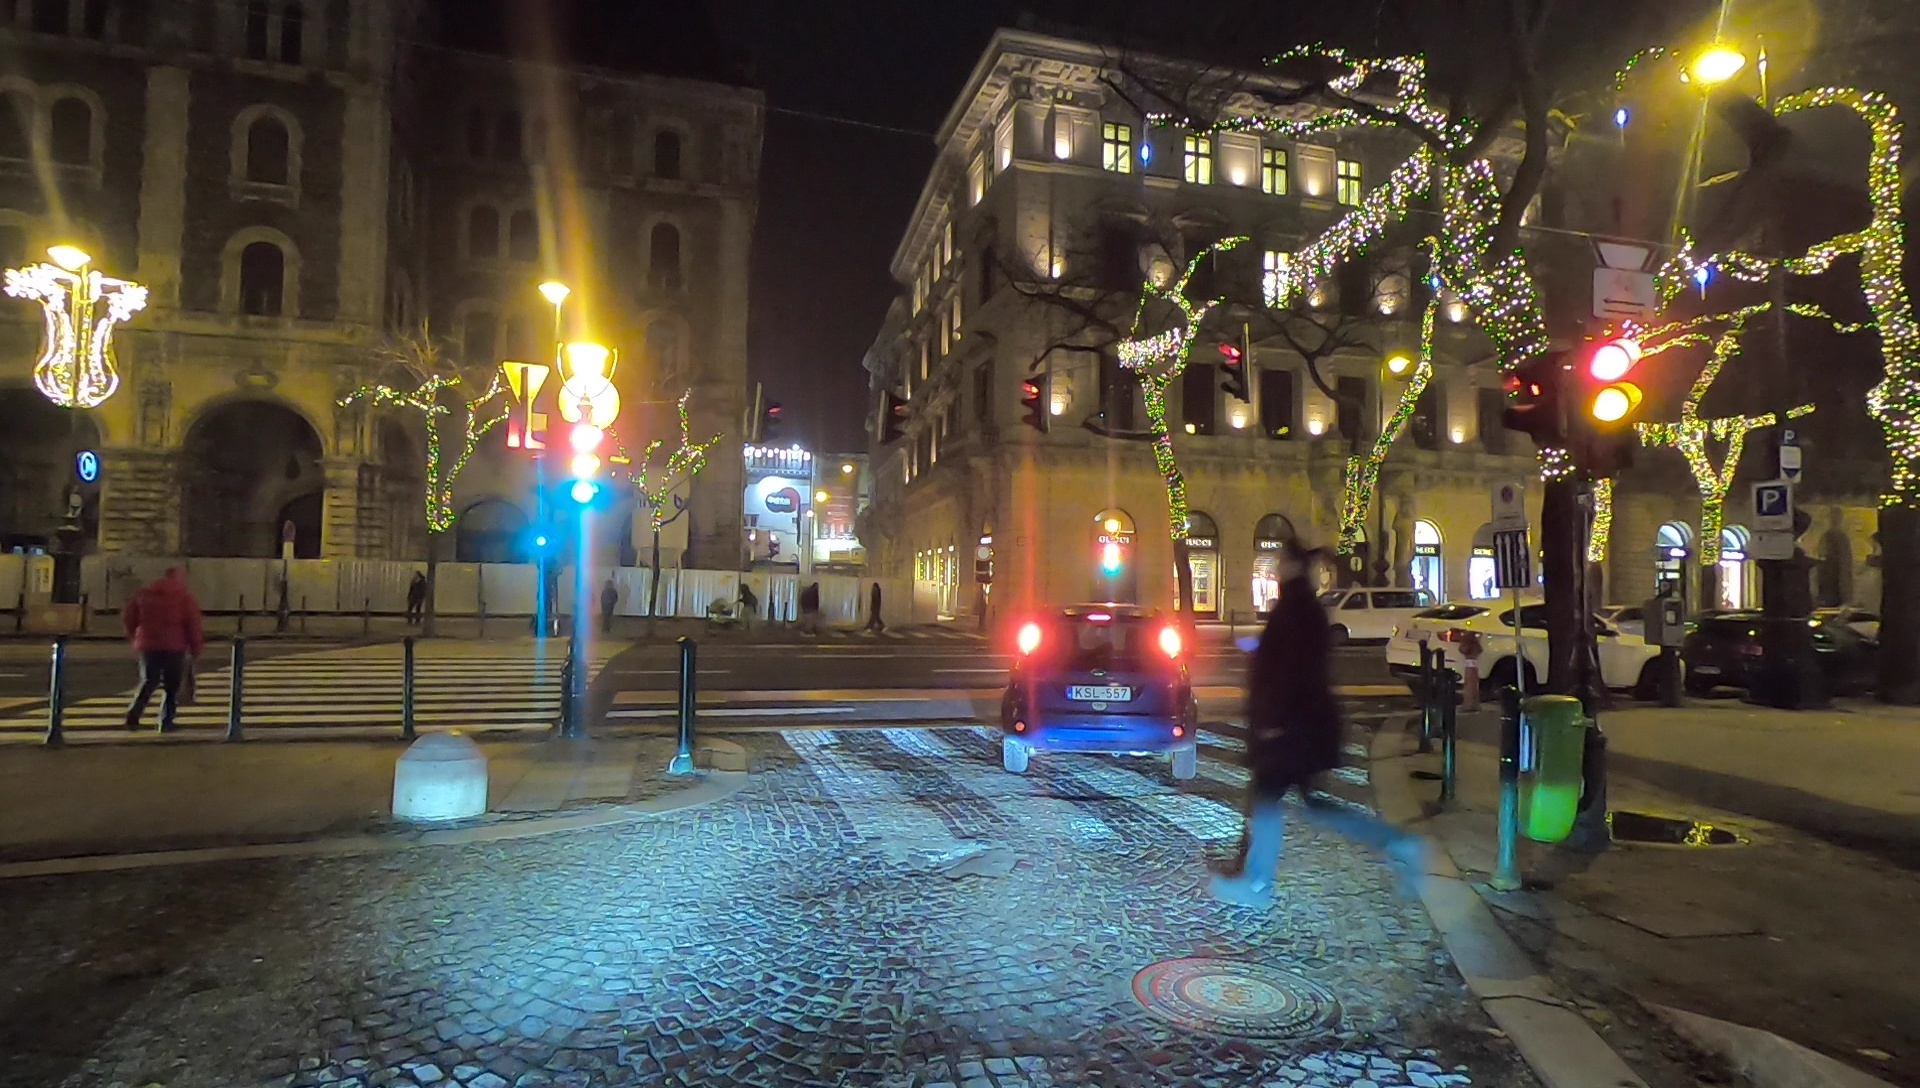person: (1206, 542, 1419, 906), (120, 566, 207, 735), (793, 581, 823, 639), (735, 581, 757, 632), (405, 568, 423, 628), (601, 579, 617, 635), (869, 584, 881, 634)
